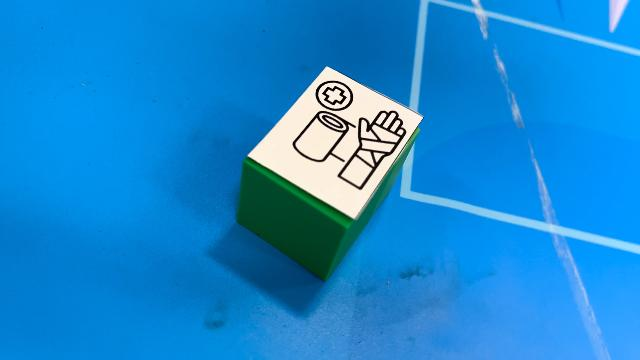bandage: (236, 65, 424, 281)
